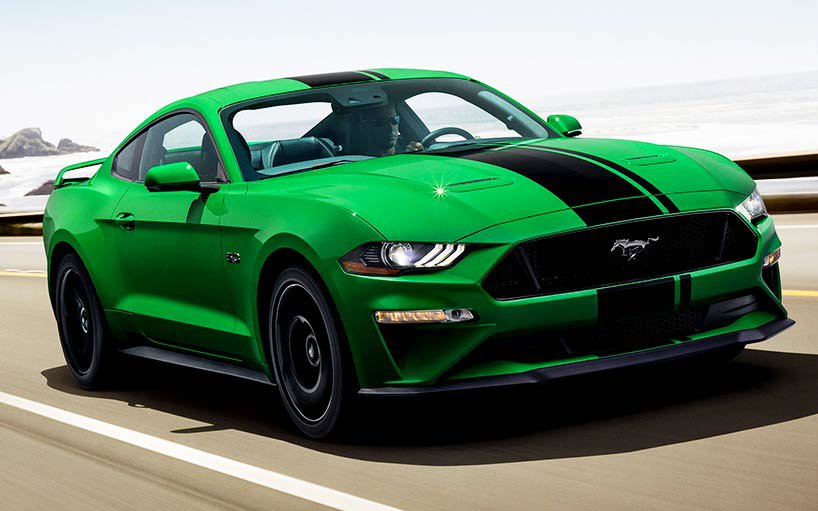car: (38, 66, 805, 431)
